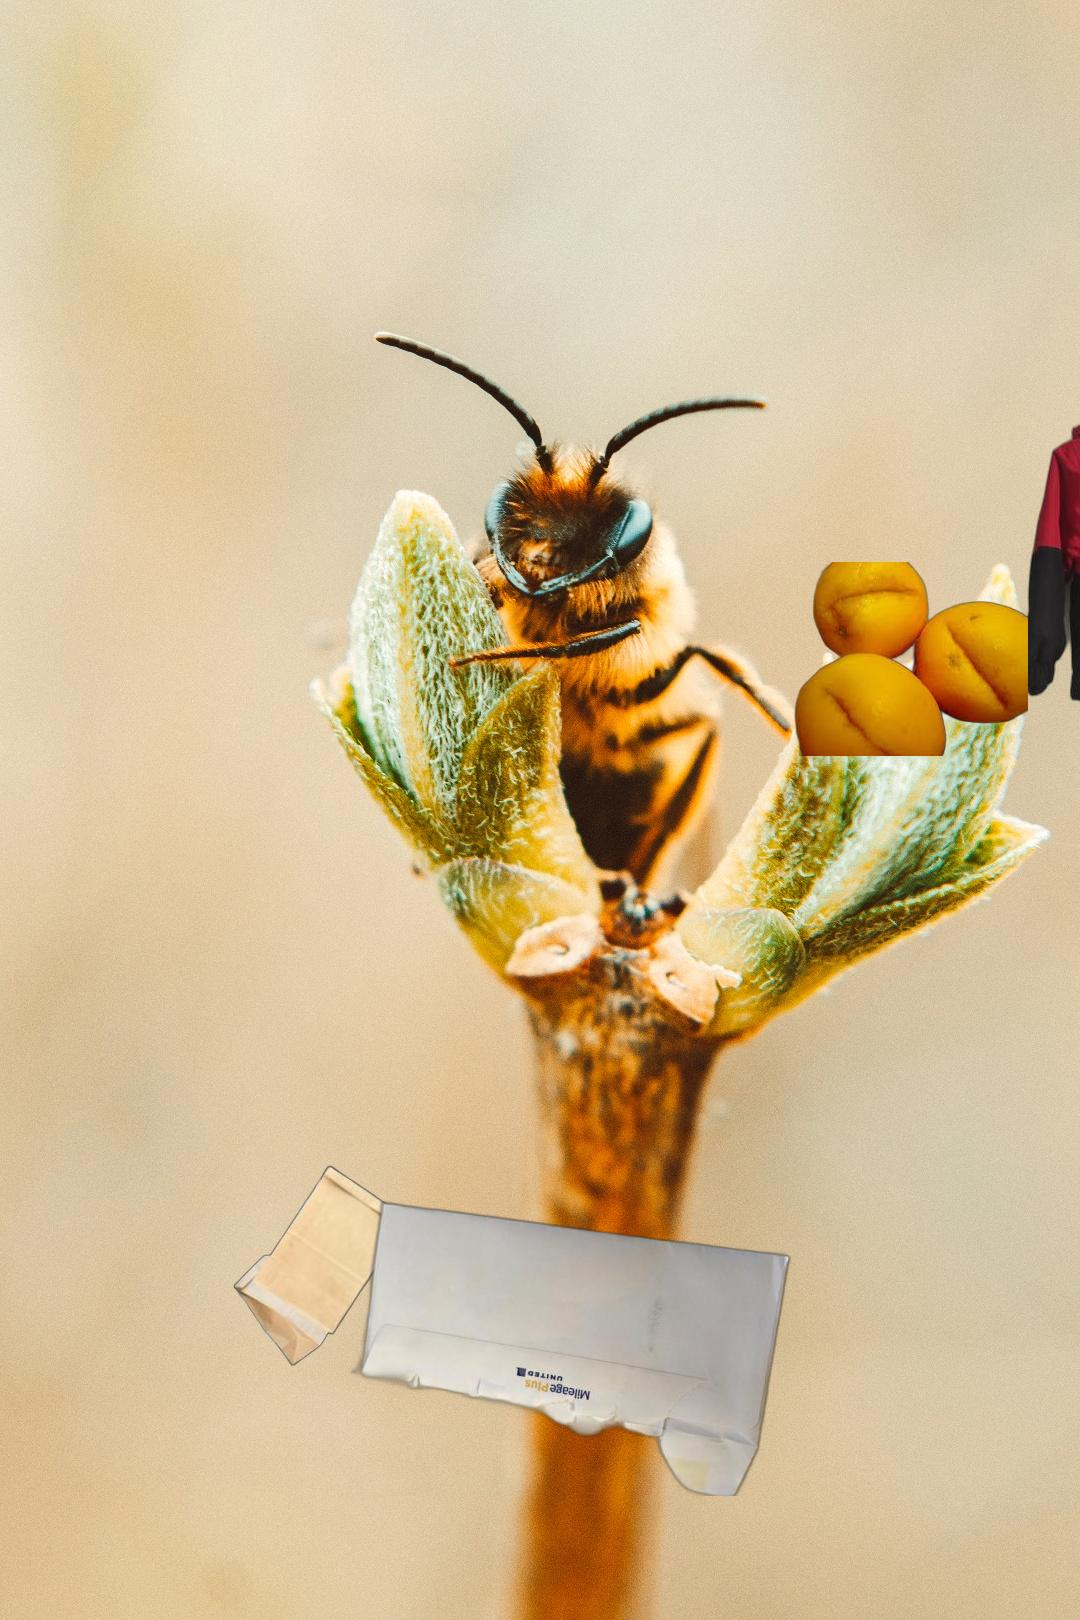biological: (793, 562, 1028, 756)
clothes: (1014, 375, 1080, 714)
paper: (341, 1198, 794, 1496)
paper-bag: (231, 1164, 410, 1368)
